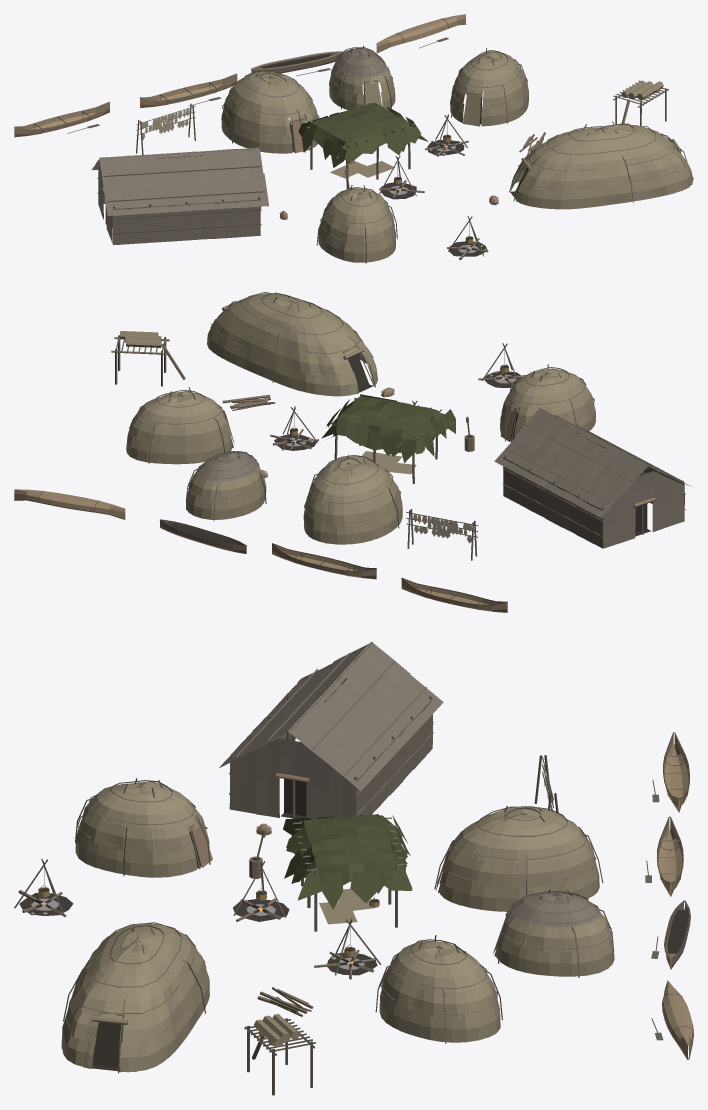
The model's file is potawatomi_camp_1812_mouth__camp_1812.glb.
The picture shows the model from 3 angles, top to bottom: view 1: azimuth 30°, elevation 25°; view 2: azimuth 150°, elevation 25°; view 3: azimuth 270°, elevation 25°; orthographic projection. The views are drawn at different scales.
Parts seen in each view (by area): view 1: potawatomi_camp_1812_mouth__camp_1812; view 2: potawatomi_camp_1812_mouth__camp_1812; view 3: potawatomi_camp_1812_mouth__camp_1812.
Part boxes in pixels (x1,y1,x2,y2): potawatomi_camp_1812_mouth__camp_1812: [14, 14, 693, 263]; potawatomi_camp_1812_mouth__camp_1812: [14, 292, 692, 612]; potawatomi_camp_1812_mouth__camp_1812: [14, 641, 693, 1095].
Bounding box in the file's own units: 29.5 × 3.45 × 22.6.
